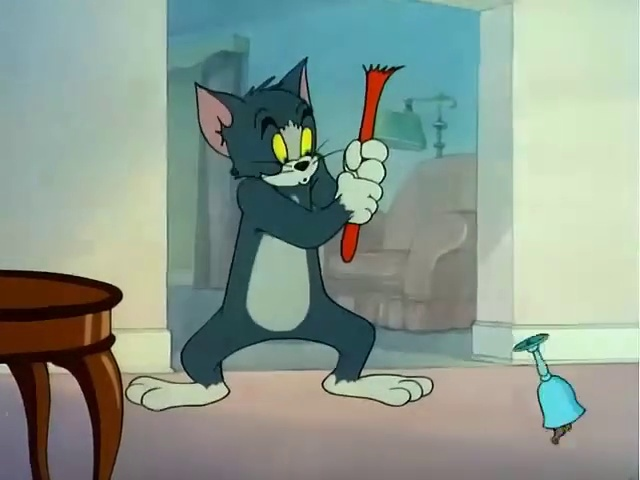tom: (124, 17, 471, 427)
